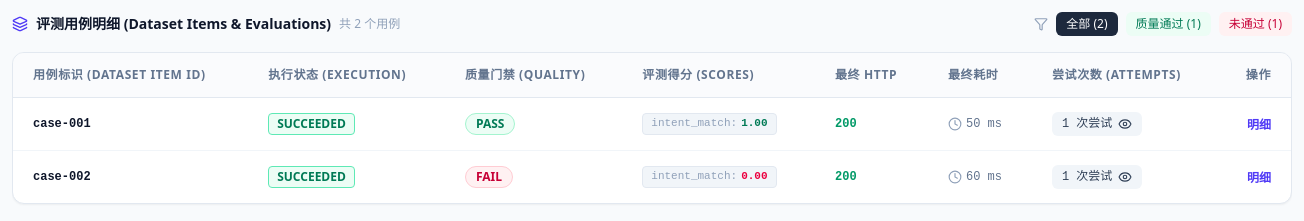
Test: ItemTable Case-Insensitive Matching and Filtering › correctly counts and filters items with lowercase backend quality conclusions
Expected: the button "全部 (2)" is shown, [1056,12,1118,36]
Expected: the button "未通过 (1)" is shown, [1219,12,1292,36]
Note: Click "质量通过 (1)"
Click the button "质量通过 (1)". click: (1168, 24)
box: [1126,12,1211,36]
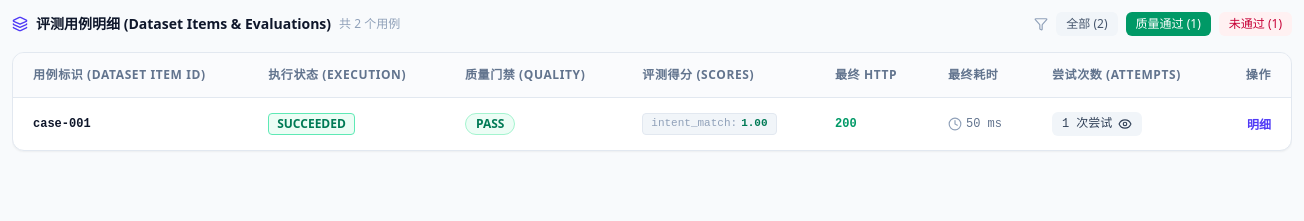
Expected: the text "case-001" is shown, [33,116,91,132]
Expected: the text "case-002" is gone
Note: Click "未通过 (1)"
Click the button "未通过 (1)". click: (1255, 24)
box: [1219,12,1292,36]
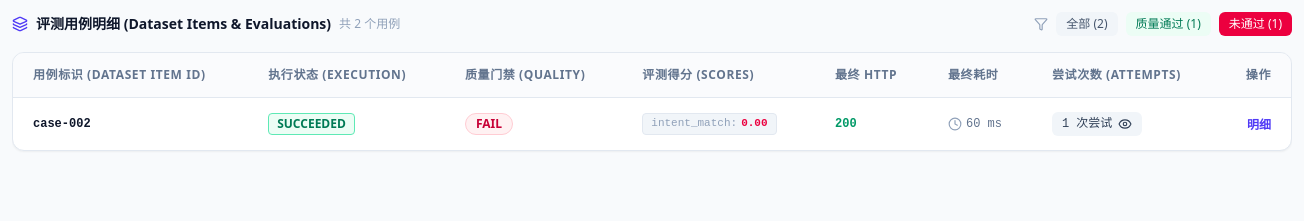
Expected: the text "case-001" is gone
Expected: the text "case-002" is shown, [33,116,91,132]
